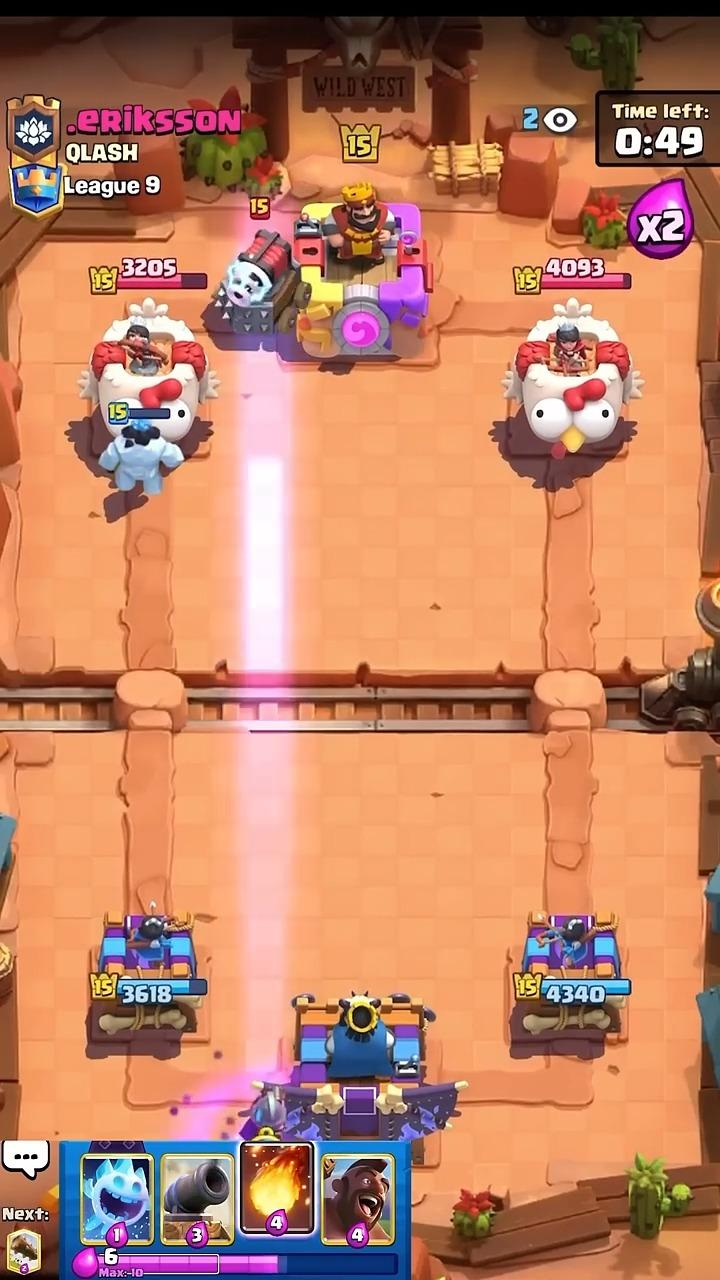ice golem: (99, 422, 183, 495)
musketeer: (241, 1085, 287, 1139)
sparky: (209, 232, 309, 346)
